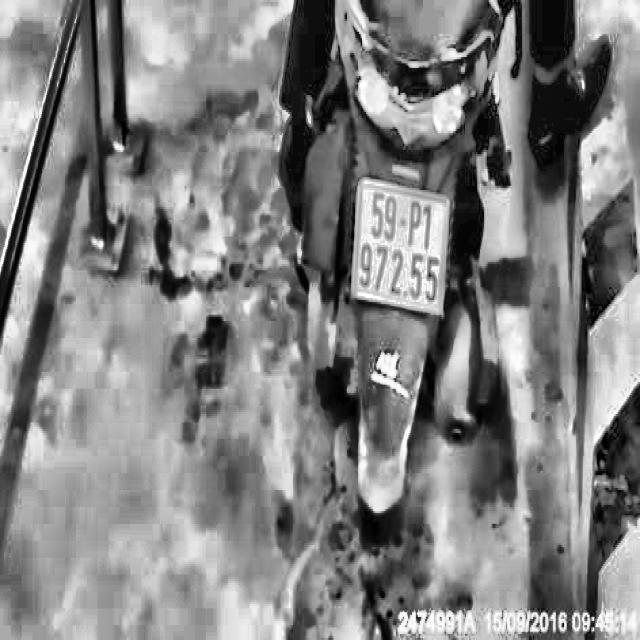plate: (346, 166, 454, 325)
